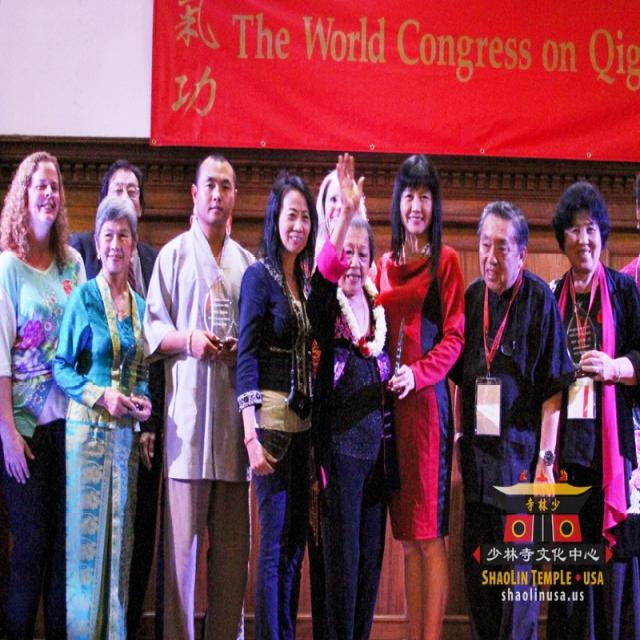body: (140, 151, 262, 640), (446, 197, 576, 640), (302, 147, 398, 639), (372, 153, 467, 640), (50, 190, 152, 639), (543, 178, 640, 640), (0, 146, 90, 639), (233, 167, 320, 639), (304, 167, 380, 640), (69, 160, 163, 298), (612, 172, 640, 301), (188, 202, 235, 236)
